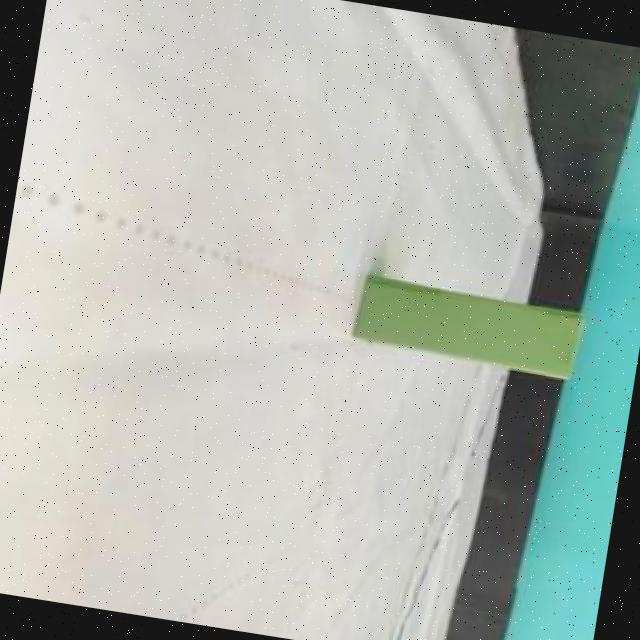greenbox: (346, 269, 589, 383)
